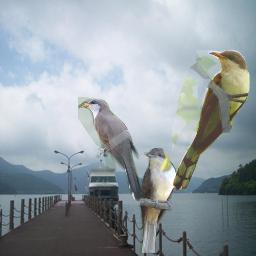Cuckoo: (172, 50, 250, 192), (78, 97, 145, 203), (138, 148, 176, 253)
